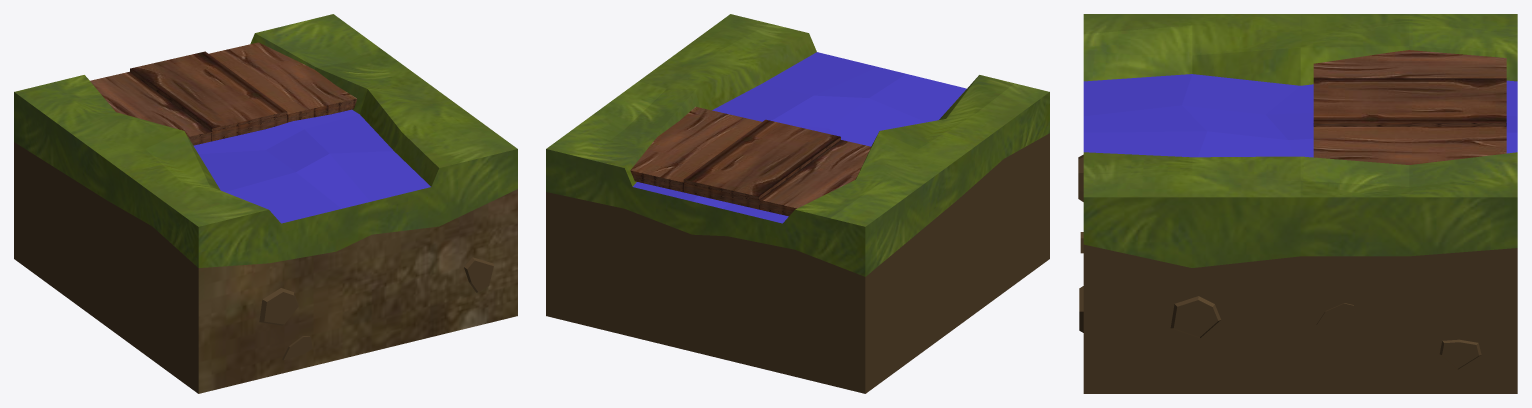
The model's file is river_bridge_tile.fbx.
The picture shows the model from 3 angles, left to right: view 1: azimuth 30°, elevation 25°; view 2: azimuth 150°, elevation 25°; view 3: azimuth 270°, elevation 25°; orthographic projection. The views are drawn at different scales.
Visible parts, largest first — view 1: Cube.192, Cube.196, Cube.193, Cube.195; view 2: Cube.192, Cube.196, Cube.193, Cube.195; view 3: Cube.196, Cube.192, Cube.193, Cube.195.
Boxes of the visible parts, <box> form: Cube.192: <box>14,142,517,393</box>; Cube.196: <box>14,14,517,267</box>; Cube.193: <box>90,42,356,145</box>; Cube.195: <box>193,109,430,223</box>; Cube.192: <box>546,133,1049,393</box>; Cube.196: <box>546,14,1049,276</box>; Cube.193: <box>630,106,870,216</box>; Cube.195: <box>633,52,966,223</box>; Cube.196: <box>1083,14,1517,267</box>; Cube.192: <box>1078,154,1517,393</box>; Cube.193: <box>1313,50,1506,164</box>; Cube.195: <box>1083,74,1517,157</box>.
Size of the model in its own units: 2.02 by 1.06 by 2.03.
4 materials, 3 textured.
